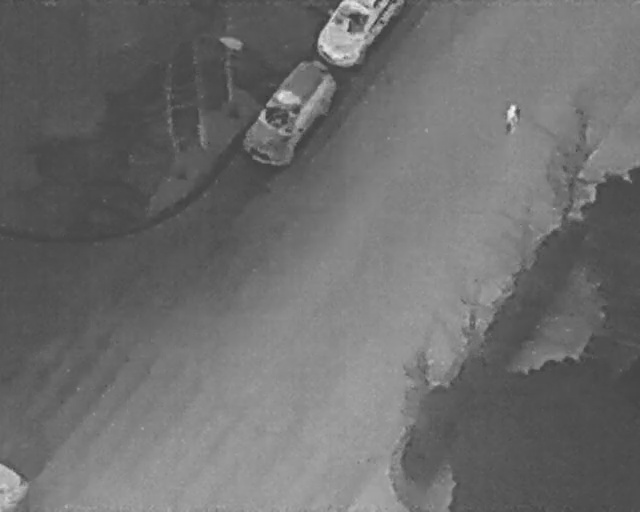Car: (238, 50, 344, 176), (317, 1, 407, 71)
Person: (506, 100, 519, 135)
